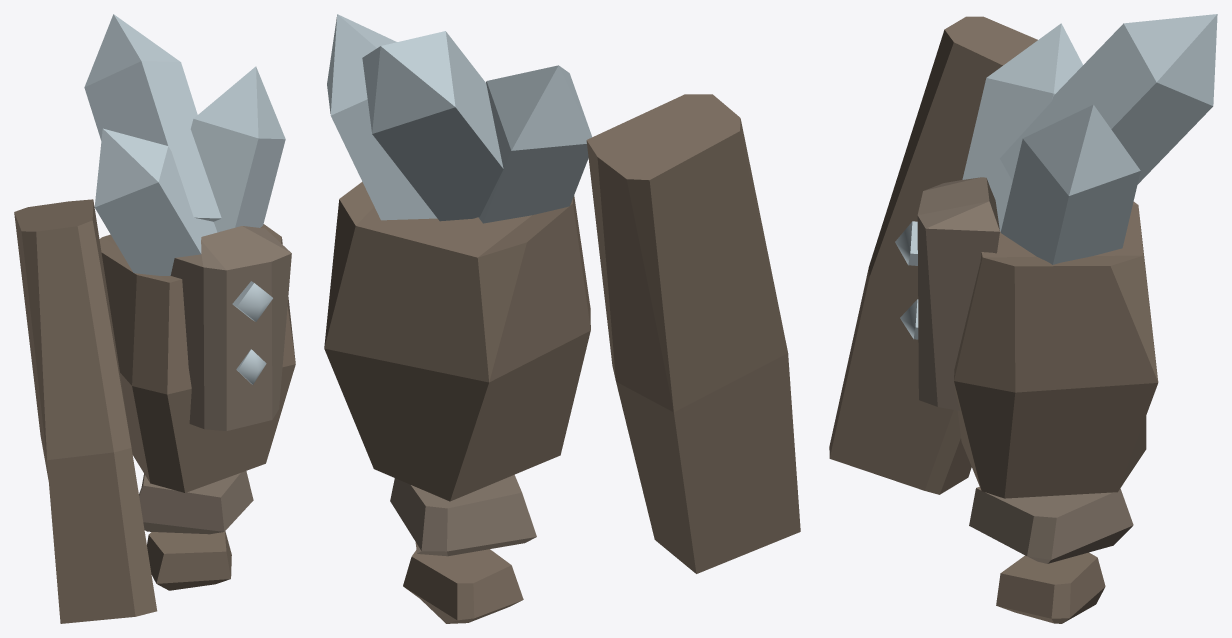
The model's file is model_melee.fbx.
The picture shows the model from 3 angles, left to right: view 1: azimuth 30°, elevation 25°; view 2: azimuth 150°, elevation 25°; view 3: azimuth 270°, elevation 25°; orthographic projection. The views are drawn at different scales.
Visible parts, largest first — view 1: arm, body, head, crystalCenter, crystalRight, crystalLeft, body1, body2, topEye, bottomEye; view 2: arm, body, crystalCenter, crystalRight, crystalLeft, body1, body2; view 3: body, arm, crystalCenter, crystalLeft, head, crystalRight, body1, body2, topEye.
Boxes of the visible parts, left/top/right/bottom form: arm: left=14, top=199, right=157, bottom=623; body: left=99, top=224, right=295, bottom=492; head: left=170, top=226, right=291, bottom=430; crystalCenter: left=84, top=14, right=221, bottom=221; crystalRight: left=94, top=128, right=217, bottom=275; crystalLeft: left=190, top=66, right=285, bottom=232; body1: left=139, top=471, right=253, bottom=534; body2: left=147, top=531, right=231, bottom=590; topEye: left=232, top=281, right=272, bottom=321; bottomEye: left=236, top=349, right=266, bottom=384; arm: left=586, top=94, right=800, bottom=573; body: left=324, top=182, right=590, bottom=501; crystalCenter: left=362, top=31, right=503, bottom=221; crystalRight: left=478, top=65, right=591, bottom=223; crystalLeft: left=327, top=14, right=437, bottom=220; body1: left=390, top=475, right=536, bottom=556; body2: left=403, top=549, right=523, bottom=623; body: left=954, top=202, right=1158, bottom=498; arm: left=829, top=16, right=1037, bottom=494; crystalCenter: left=1000, top=14, right=1217, bottom=184; crystalLeft: left=1000, top=104, right=1140, bottom=264; head: left=917, top=177, right=999, bottom=410; crystalRight: left=962, top=23, right=1082, bottom=231; body1: left=969, top=486, right=1133, bottom=563; body2: left=996, top=552, right=1105, bottom=623; topEye: left=895, top=221, right=917, bottom=265.
Bounding box in the file's own units: 3.74 × 5.94 × 3.53.
